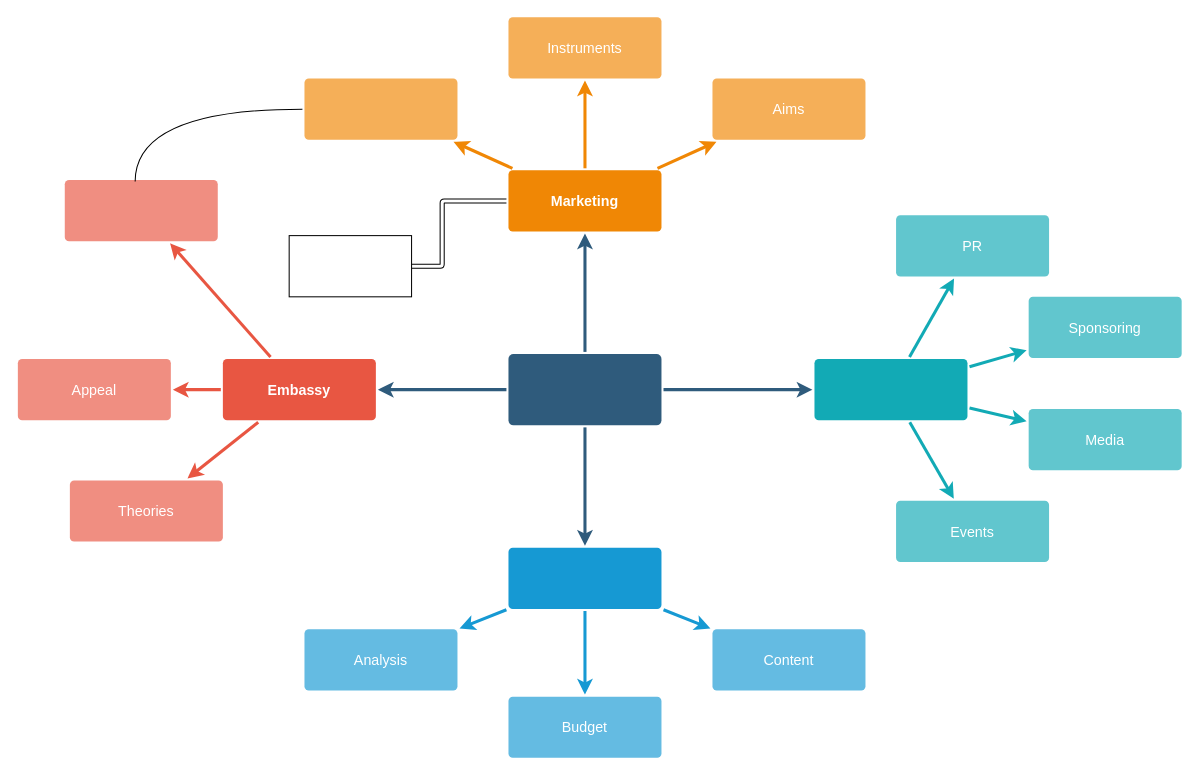
Image size: 1199x775. Some labels were removed from this diagram. Each missing label, with the centre of its shape:
"Advertising" goes at point 584,389.
"Communication" goes at point 890,389.
"Layout" goes at point 140,210.
"Organization" goes at point 584,577.
"Segmentation" goes at point 380,108.
